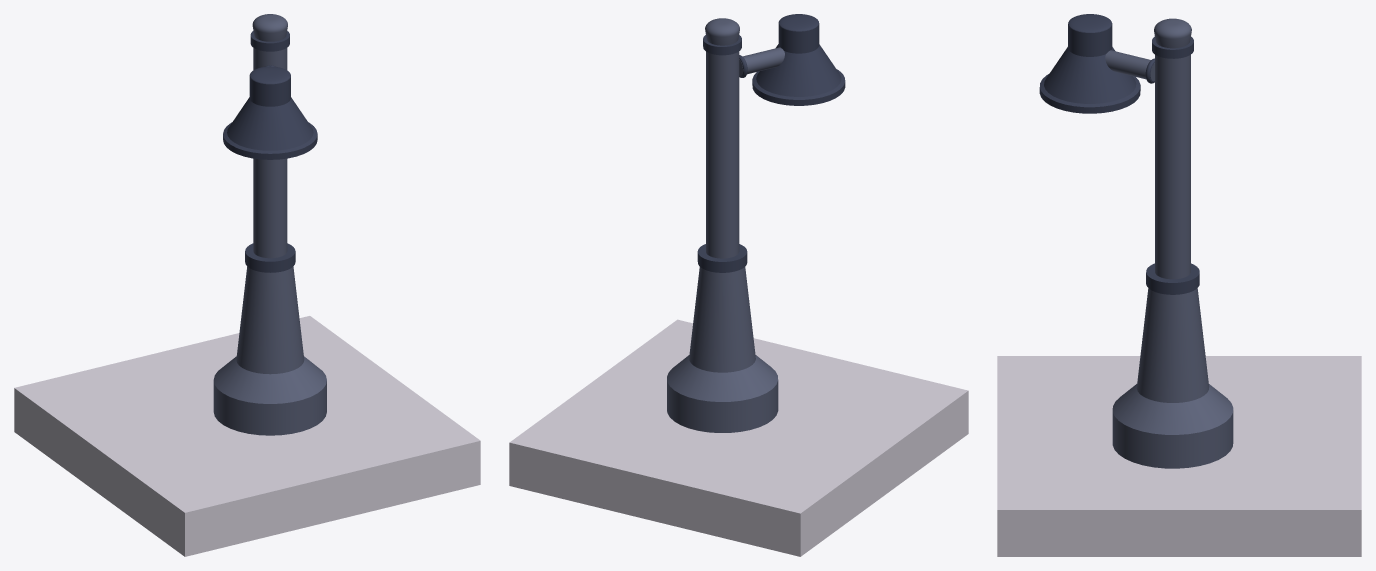
The model's file is concrete_light.fbx.
3 renders of one model, left to right at view 1: azimuth 30°, elevation 25°; view 2: azimuth 150°, elevation 25°; view 3: azimuth 270°, elevation 25°, orthographic. The views are drawn at different scales.
Visible parts, largest first — view 1: Cube.036, light base, light; view 2: Cube.036, light base, light; view 3: Cube.036, light base, light.
Boxes of the visible parts, x1,y1,x2,y2 form: Cube.036: (14, 316, 480, 556); light base: (213, 14, 326, 435); light: (223, 66, 317, 159); Cube.036: (509, 319, 968, 556); light base: (667, 18, 784, 432); light: (752, 14, 845, 105); Cube.036: (997, 356, 1361, 556); light base: (1105, 18, 1233, 468); light: (1039, 14, 1140, 113).
Bounding box in the file's own units: 171 × 241 × 171.
